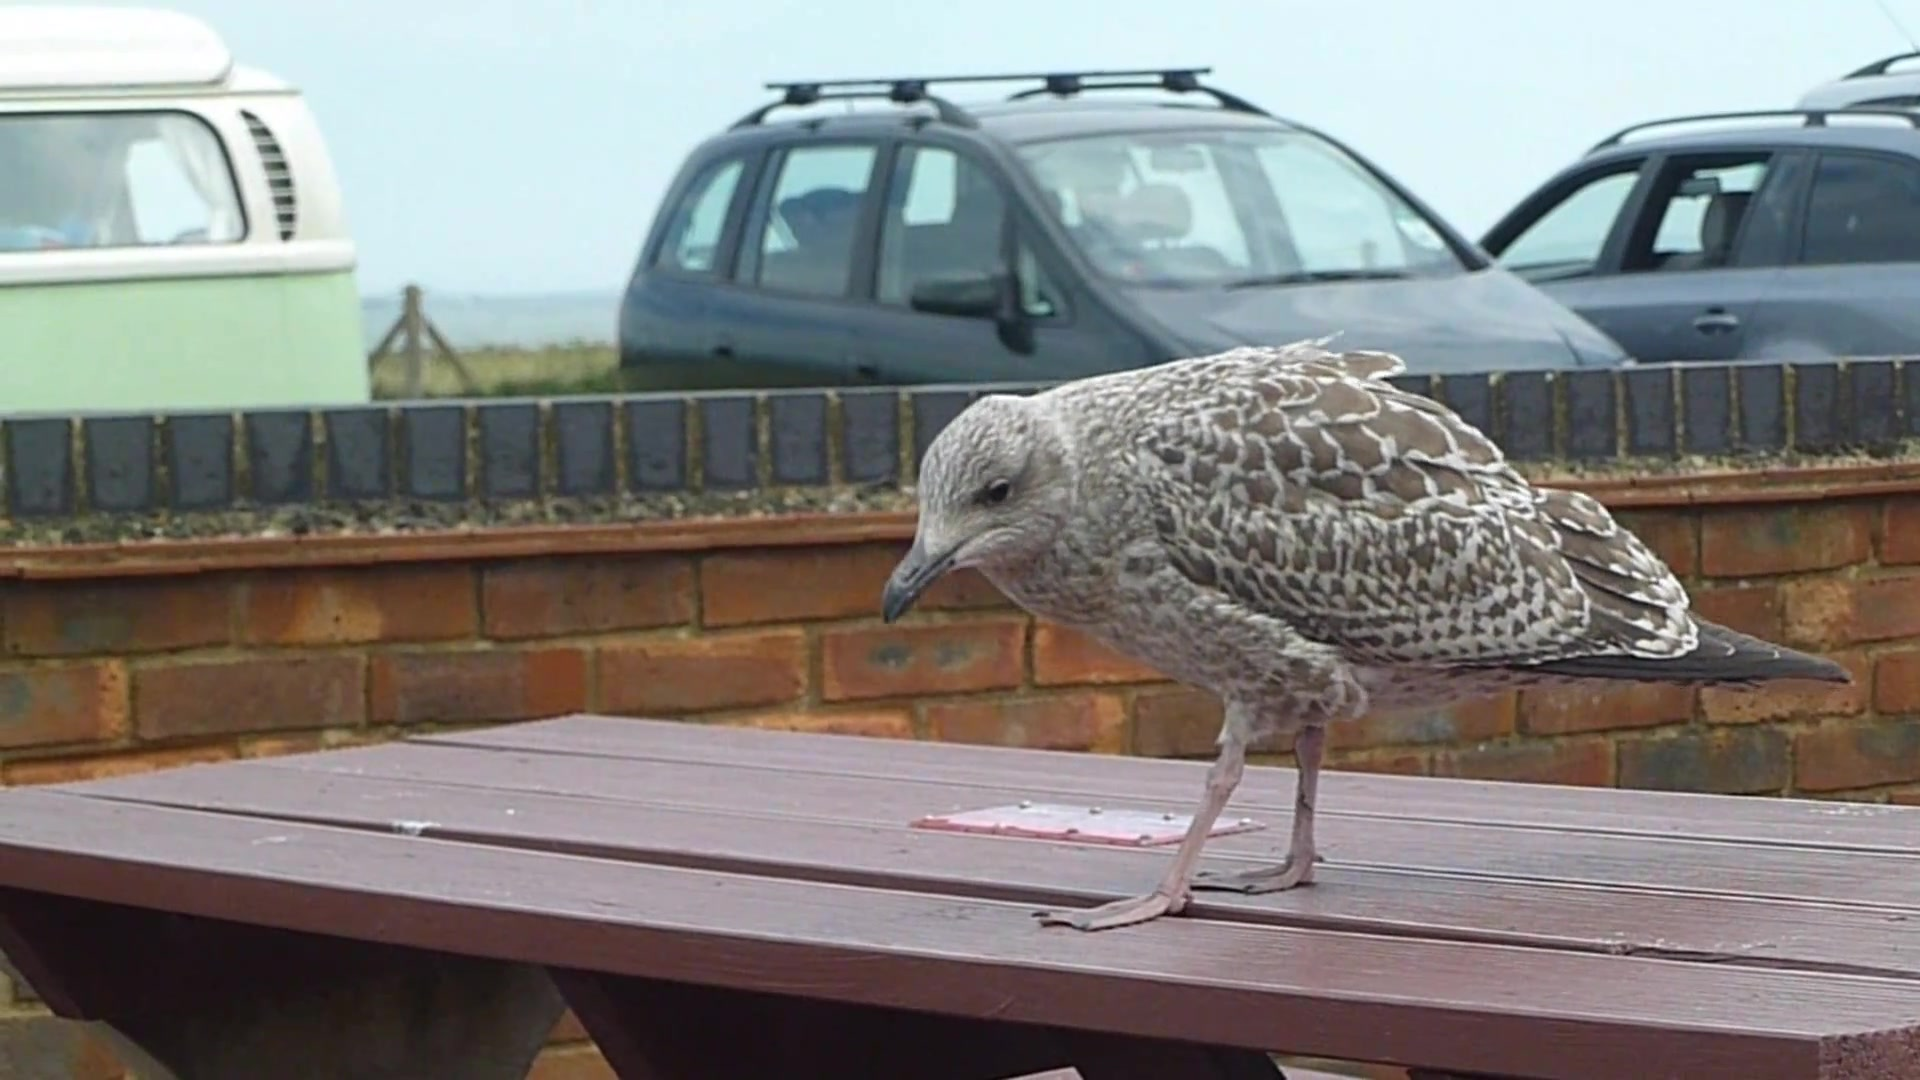bird: (880, 328, 1854, 934)
